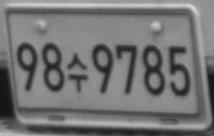5: (168, 45, 190, 95)
7: (116, 44, 137, 94)
8: (40, 41, 65, 91), (142, 44, 165, 95)
9: (91, 43, 114, 92), (15, 41, 37, 91)
수: (66, 51, 88, 93)
